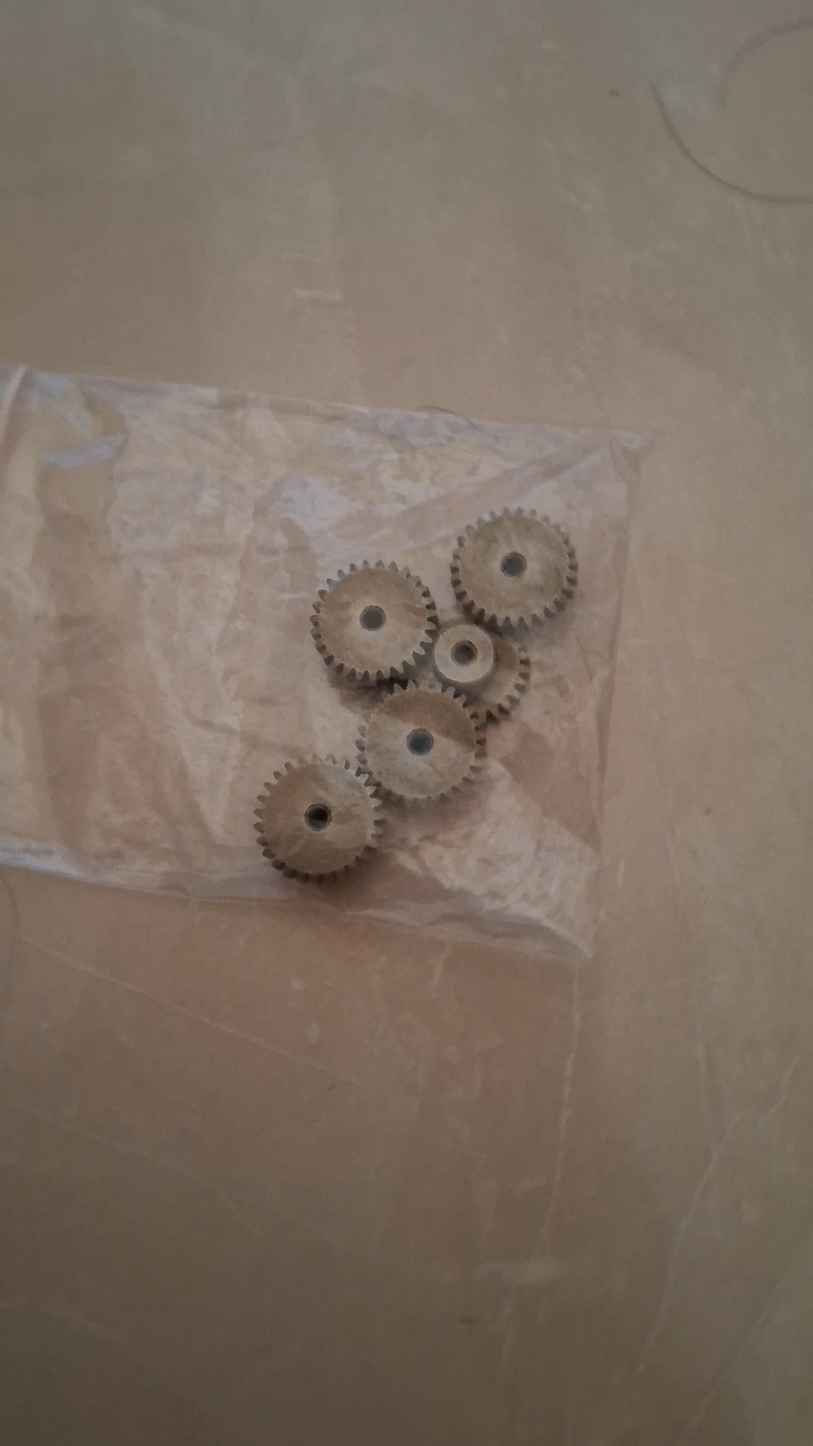spur gear: (311, 561, 437, 684), (255, 757, 382, 879), (358, 681, 485, 802), (452, 508, 576, 630), (472, 634, 530, 719)
